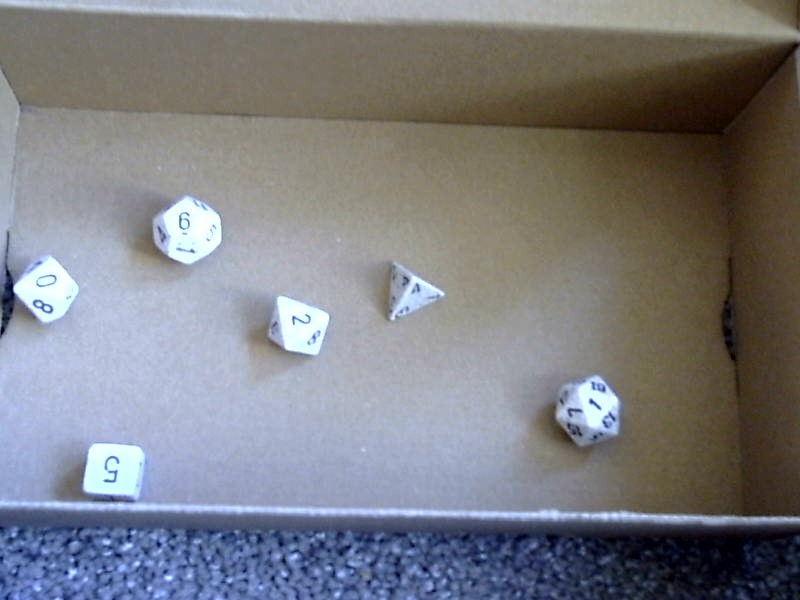d10 10: (7, 249, 82, 332)
d12 6: (145, 191, 228, 271)
d20 1: (543, 366, 626, 457)
d4 4: (381, 253, 448, 327)
d6 5: (73, 436, 153, 508)
d8 2: (260, 286, 333, 363)
